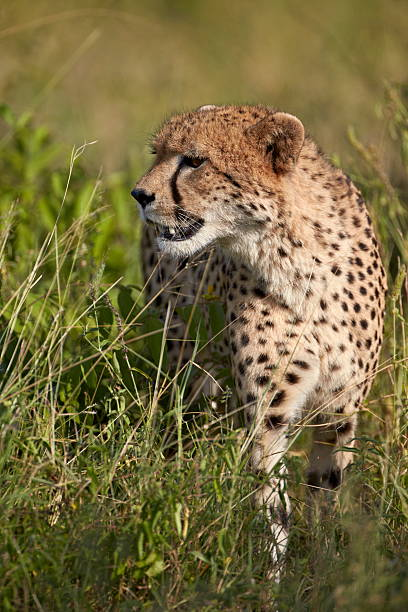cheetah: (125, 85, 315, 278)
